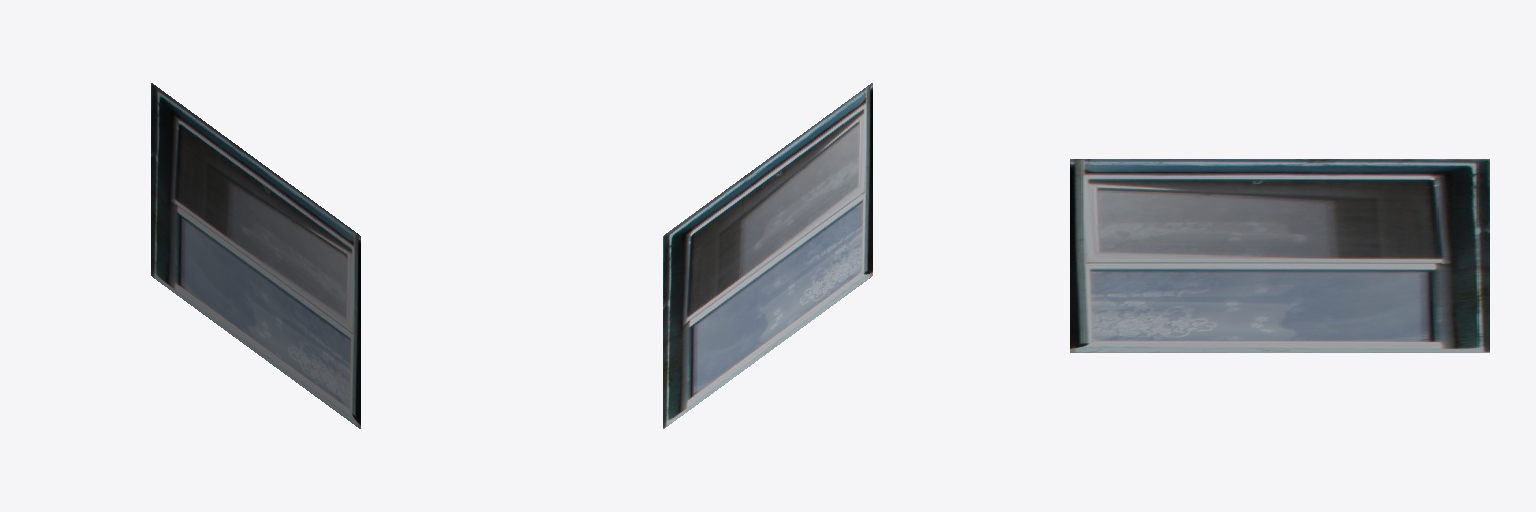
3 views of the same model, side by side, from view 1: azimuth 30°, elevation 25°; view 2: azimuth 150°, elevation 25°; view 3: azimuth 270°, elevation 25° (orthographic).
Parts seen in each view (by area): view 1: Plane001; view 2: Plane001; view 3: Plane001.
Boxes of the visible parts, x1,y1,x2,y2 form: Plane001: [151, 83, 360, 428]; Plane001: [663, 83, 872, 428]; Plane001: [1070, 159, 1489, 352].
Bounding box in the file's own units: 0 × 102 × 200.
1 materials, 1 textured.